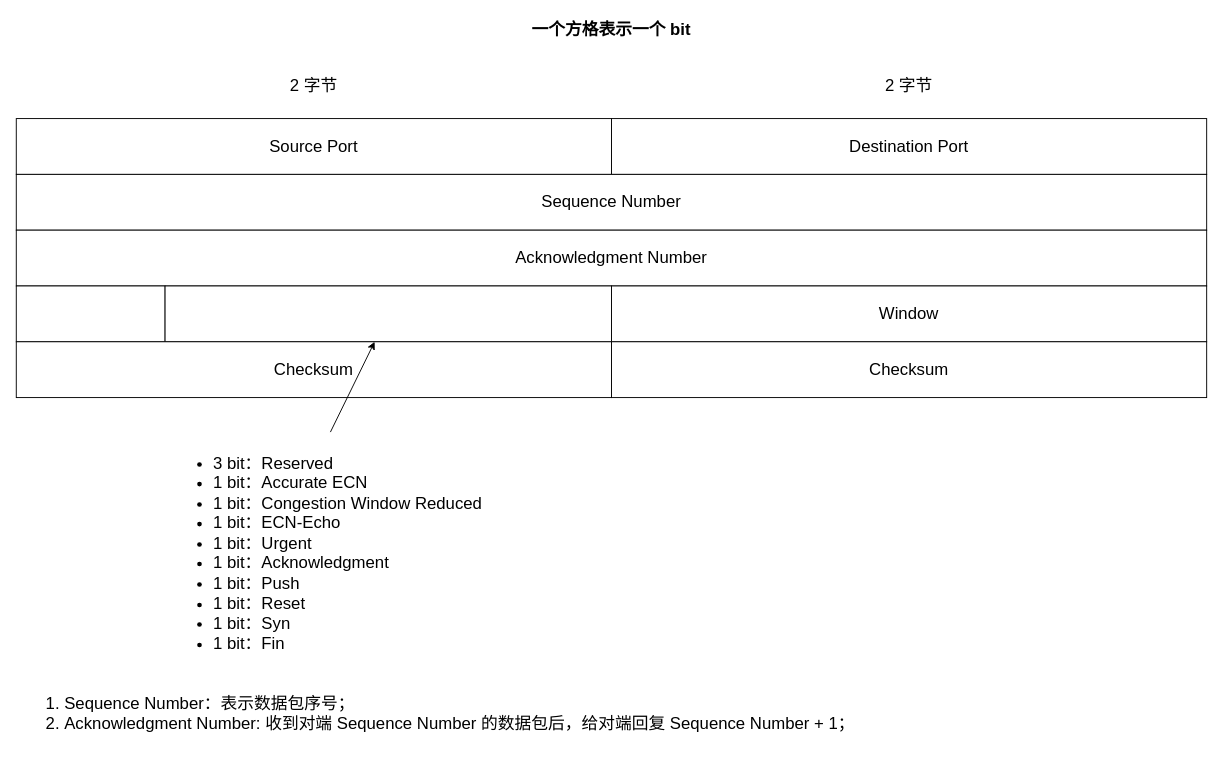
This 1223x757 diagram has some shape labels left out. The shapes that lost their labels are listed below. From the top down, each one's centre as x and y in pixels, then its label:
(x=90, y=313): Header Length
(x=387, y=313): Flags
